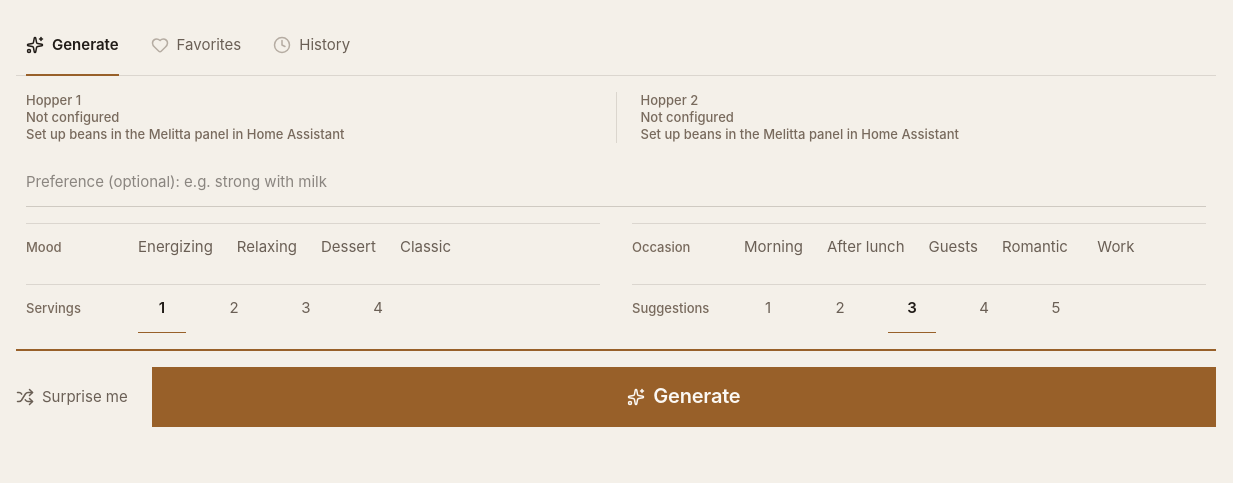
Test: SommelierSection generate error banner › shows the localized no_llm_agent hint (configure_llm) instead of a generic failure
Step 1. Click the button "Surprise me" → (72, 397), box [16,373,128,421]
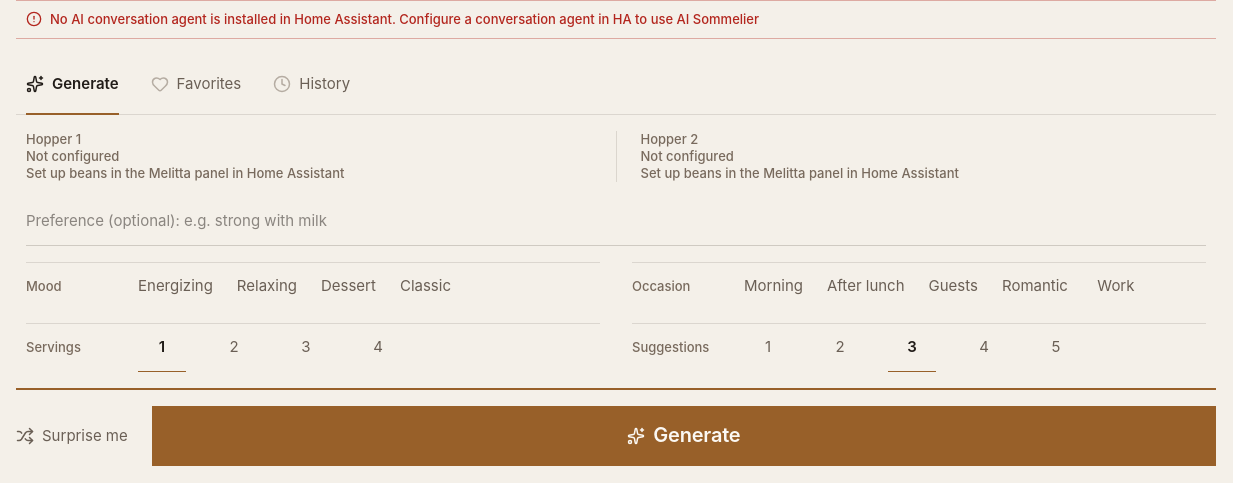
Expected: the message shows "No AI conversation agent is installed", [50,11,759,27]
Expected: the message shows "Configure a conversation agent in HA", [50,11,759,27]
